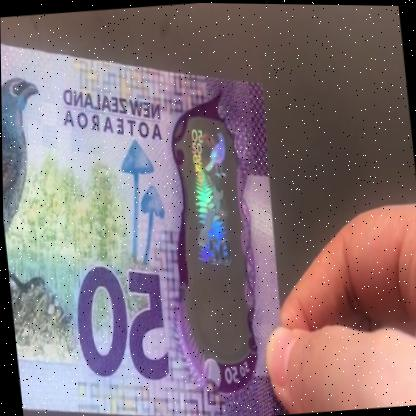50B: (178, 124, 249, 340)
